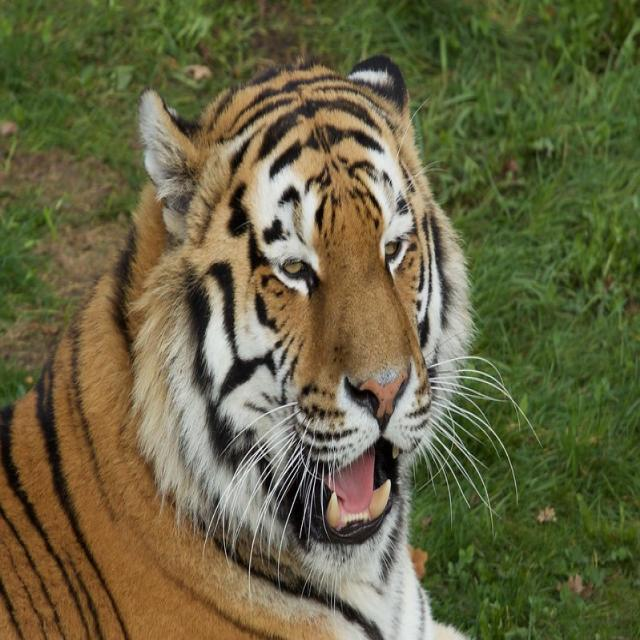Tiger: (0, 52, 518, 638)
